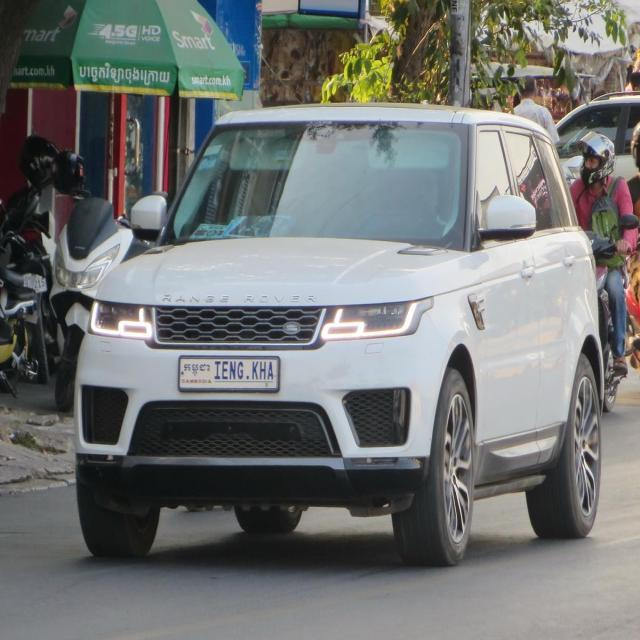Cambodia: (184, 362, 210, 376)
